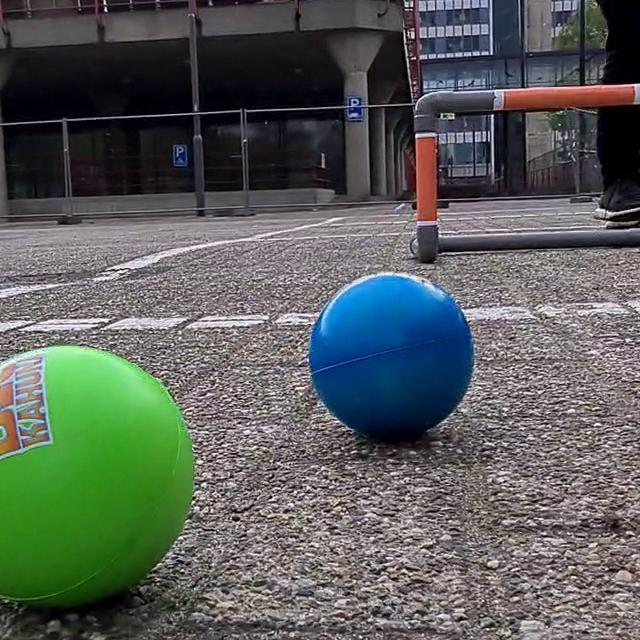ball: (308, 269, 477, 441)
